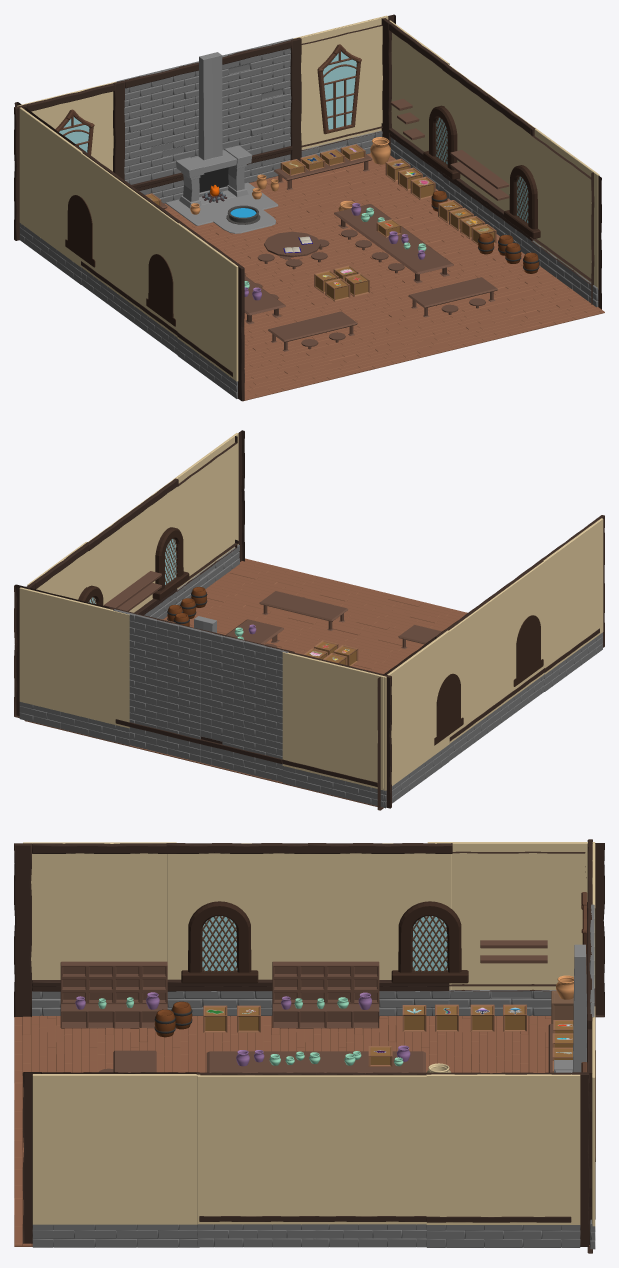
The model's file is Sala_de_Ingredientes_temp.fbx.
The picture shows the model from 3 angles, top to bottom: view 1: azimuth 30°, elevation 25°; view 2: azimuth 150°, elevation 25°; view 3: azimuth 270°, elevation 25°; orthographic projection. The views are drawn at different scales.
Parts seen in each view (by area): view 1: Parede_Modular_8, Piso.002, Piso, Piso.003, Parede.001, Parede_Modular_3.001, Parede_Modular_3.002, Parede_Modular_3, Parede_Modular_2.001, Parede_Modular_9, Parede.002, Lareira (+19 smaller); view 2: Parede_Modular_8, Parede_Modular_3, Parede_Modular_2, Parede_Modular_3.001, Parede.001, Parede_Modular_3.002, Piso.002, Parede_Modular_9, Parede.002, Piso.003, Parede.003, Parede.004 (+9 smaller); view 3: Parede_Modular_3.001, Parede_Modular_2.001, Parede_Modular_3.002, Parede.001, Parede.003, Parede.004, Parede.002, Parede_Modular_9, Piso.002, Cube.007, Cube.008, Piso (+18 smaller).
Part boxes in pixels (box(x1,y1,x2,y2)): Parede_Modular_8: box(113, 37, 301, 203); Piso.002: box(164, 153, 604, 401); Piso: box(188, 178, 539, 337); Piso.003: box(221, 198, 570, 368); Parede.001: box(177, 223, 244, 401); Parede_Modular_3.001: box(530, 127, 601, 309); Parede_Modular_3.002: box(14, 102, 85, 284); Parede_Modular_3: box(283, 14, 395, 161); Parede_Modular_2.001: box(382, 18, 449, 190); Parede_Modular_9: box(74, 145, 131, 317); Parede.002: box(127, 185, 185, 354); Lareira: box(176, 52, 252, 208); Parede_Modular_8: box(108, 607, 294, 782); Parede_Modular_3: box(14, 584, 129, 745); Parede_Modular_2: box(282, 652, 391, 808); Parede_Modular_3.001: box(173, 430, 244, 605); Parede.001: box(543, 515, 604, 691); Parede_Modular_3.002: box(377, 630, 449, 810); Piso.002: box(24, 558, 467, 807); Parede_Modular_9: box(435, 596, 494, 760); Parede.002: box(490, 557, 546, 727); Piso.003: box(196, 582, 424, 658); Parede.003: box(129, 478, 178, 619); Parede.004: box(87, 511, 133, 611); Parede_Modular_3.001: box(22, 1072, 200, 1247); Parede_Modular_2.001: box(426, 1072, 589, 1247); Parede_Modular_3.002: box(427, 842, 604, 1017); Parede.001: box(14, 842, 176, 1016); Parede.003: box(196, 1072, 316, 1247); Parede.004: box(312, 1072, 426, 1247); Parede.002: box(166, 843, 309, 1016); Parede_Modular_9: box(308, 843, 452, 1015); Piso.002: box(14, 1015, 589, 1246); Cube.007: box(272, 961, 379, 1028); Cube.008: box(60, 961, 167, 1028); Piso: box(180, 1016, 512, 1073).
Size of the model in its own units: 3652 by 1296 by 3772.
Materials: 28 (1 with a texture image).
